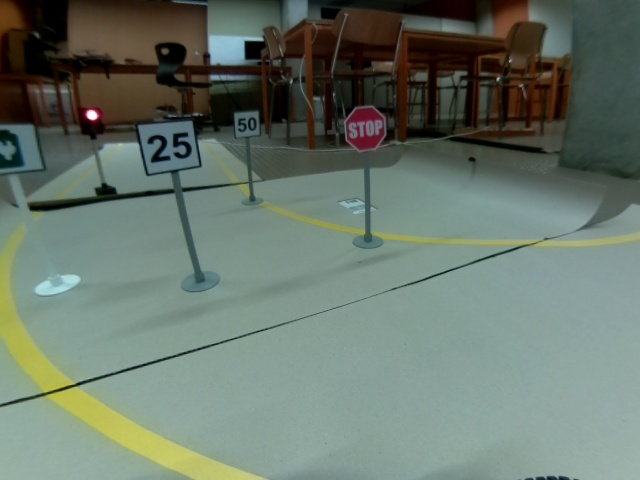battery: (1, 121, 46, 176)
speed25: (135, 118, 201, 176)
speed50: (232, 109, 261, 140)
stop: (343, 106, 386, 152)
trafficLightRed: (76, 105, 106, 136)
